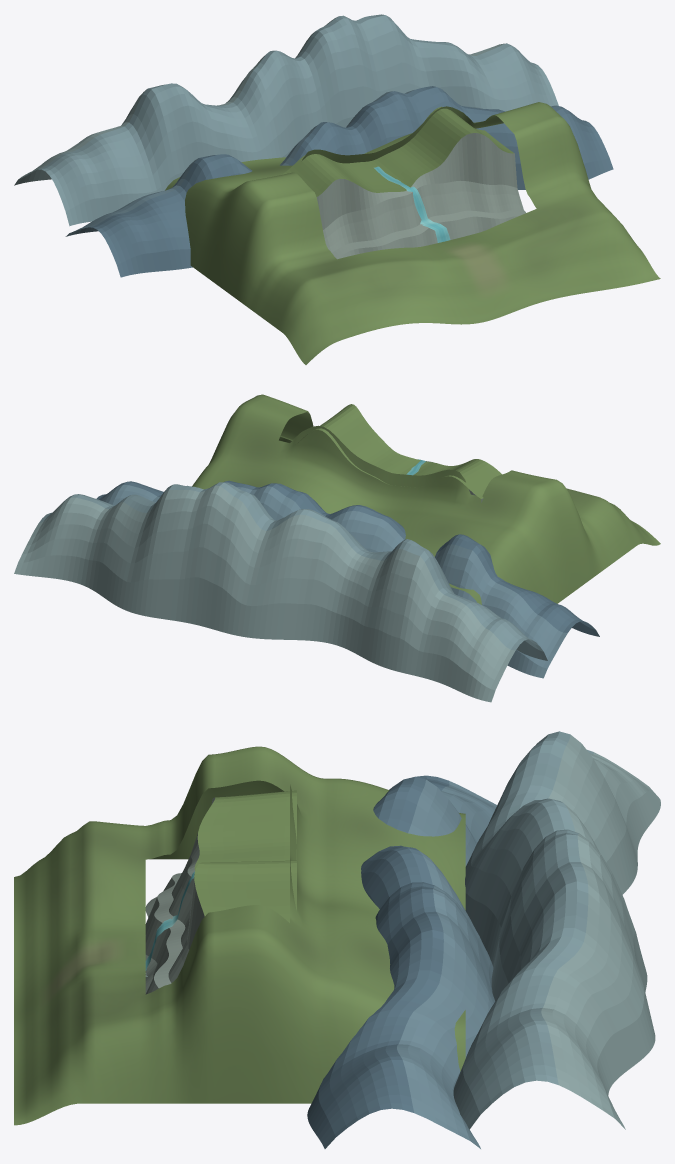
The model's file is valley.fbx.
3 renders of one model, top to bottom at view 1: azimuth 30°, elevation 25°; view 2: azimuth 150°, elevation 25°; view 3: azimuth 270°, elevation 25°, orthographic. The views are drawn at different scales.
Visible parts, largest first — view 1: ConnectedValley, ValleyRidgeFar, RiverCliffMass, ValleyRidgeNear, TwinCascade; view 2: ValleyRidgeFar, ConnectedValley, ValleyRidgeNear, RiverCliffMass; view 3: ConnectedValley, ValleyRidgeFar, ValleyRidgeNear, RiverCliffMass.
Part boxes in pixels (bbox=[...]): ConnectedValley: bbox=[165, 102, 660, 364]; ValleyRidgeFar: bbox=[14, 14, 558, 226]; RiverCliffMass: bbox=[282, 106, 525, 259]; ValleyRidgeNear: bbox=[65, 86, 613, 277]; TwinCascade: bbox=[374, 166, 450, 242]; ValleyRidgeFar: bbox=[14, 482, 547, 702]; ConnectedValley: bbox=[192, 394, 660, 604]; ValleyRidgeNear: bbox=[96, 480, 599, 678]; RiverCliffMass: bbox=[298, 404, 501, 502]; ConnectedValley: bbox=[14, 746, 465, 1125]; ValleyRidgeFar: bbox=[453, 731, 660, 1129]; ValleyRidgeNear: bbox=[307, 775, 496, 1148]; RiverCliffMass: bbox=[145, 790, 296, 994].
Size of the model in its own units: 130000 by 37951 by 107460.
Materials: 4 (4 with a texture image).
